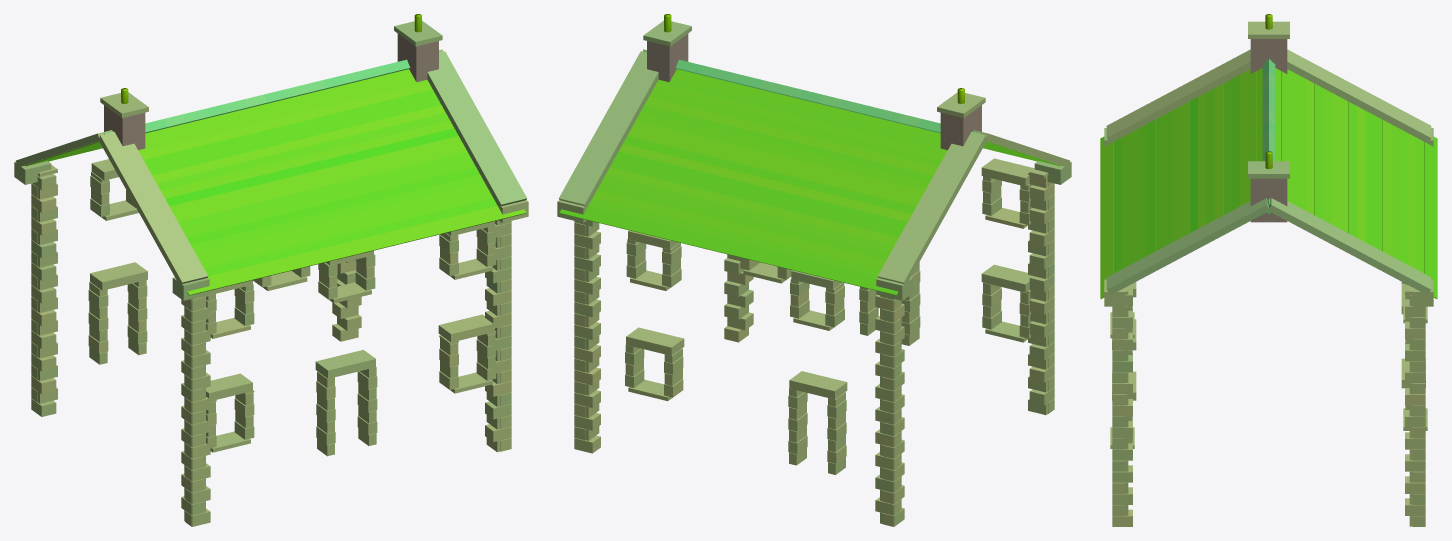
Rendered from SM_Bld_202_Stone.glb.
The picture shows the model from 3 angles, left to right: view 1: azimuth 30°, elevation 25°; view 2: azimuth 150°, elevation 25°; view 3: azimuth 270°, elevation 25°; orthographic projection. The views are drawn at different scales.
Parts seen in each view (by area): view 1: SM_Bld_202_Stone; view 2: SM_Bld_202_Stone; view 3: SM_Bld_202_Stone.
Boxes of the visible parts, x1,y1,x2,y2 form: SM_Bld_202_Stone: (14,14,528,526); SM_Bld_202_Stone: (557,14,1071,526); SM_Bld_202_Stone: (1100,14,1437,526).
Size of the model in its own units: 9.55 by 9.99 by 8.3.
